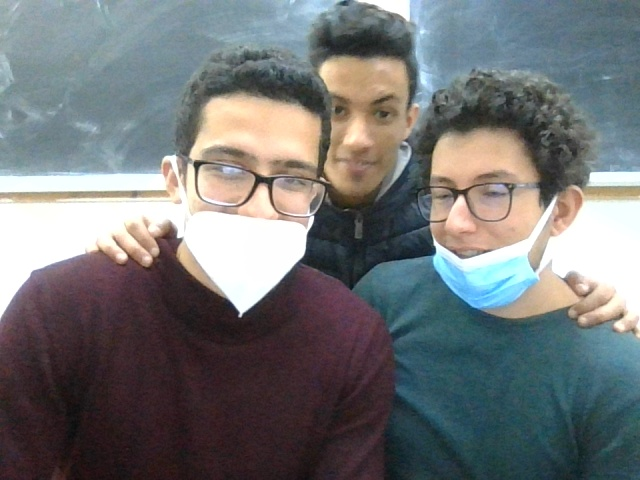mask_weared_incorrect: (171, 51, 323, 316), (418, 75, 579, 309)
without_mask: (313, 5, 419, 198)
